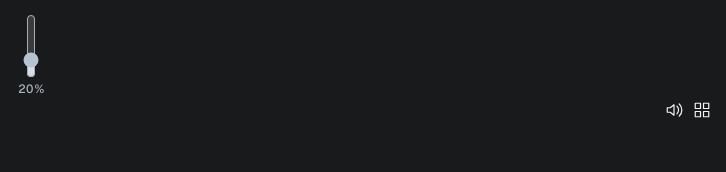
Test case: resumes external synchronization after a cancelled drag
Press the mouse on the slider named "Общая громкость" at (31, 46), box top-left (16, 14), bottom-right (46, 78)
Wait 4001 ms
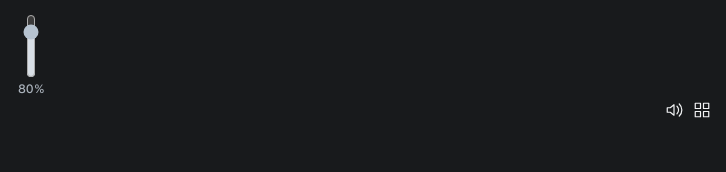
Result: the slider named "Общая громкость" holds "0.8" at top-left (16, 14), bottom-right (46, 78)
